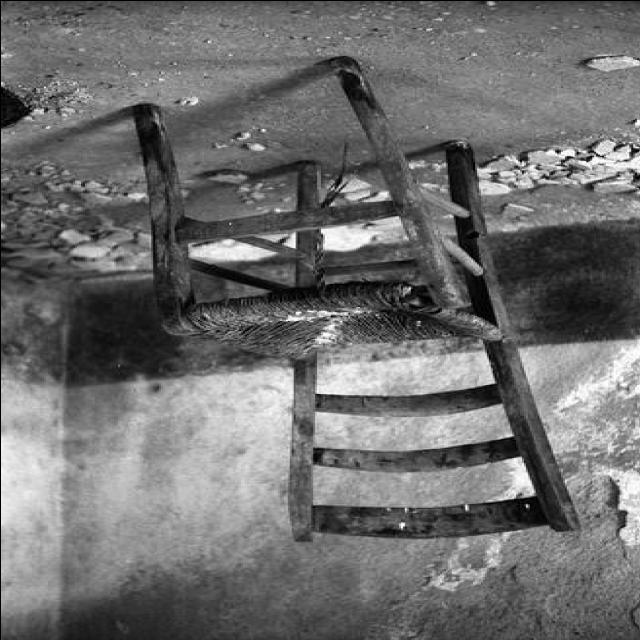chair: (115, 57, 575, 543)
